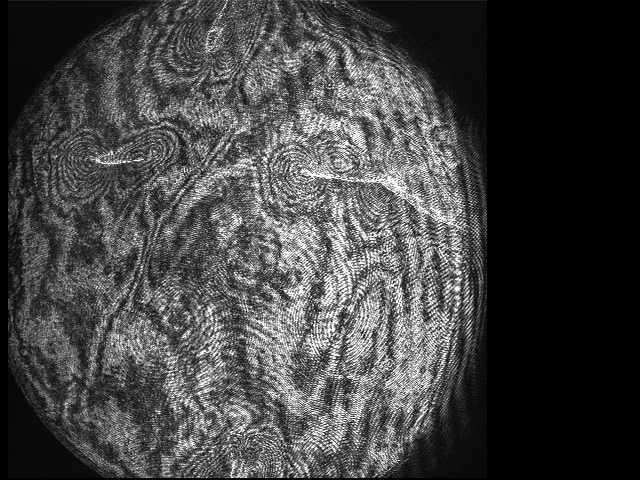plume: (52, 131, 182, 199), (161, 8, 270, 89), (259, 134, 366, 208)
